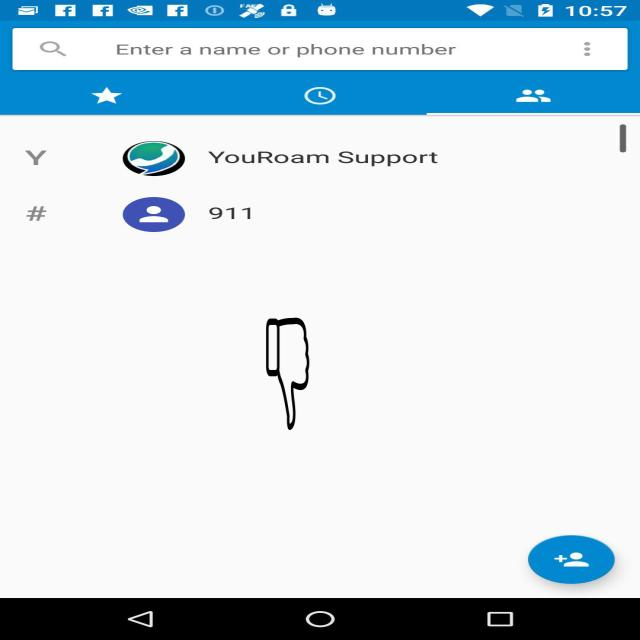obstruction: (265, 318, 310, 430)
